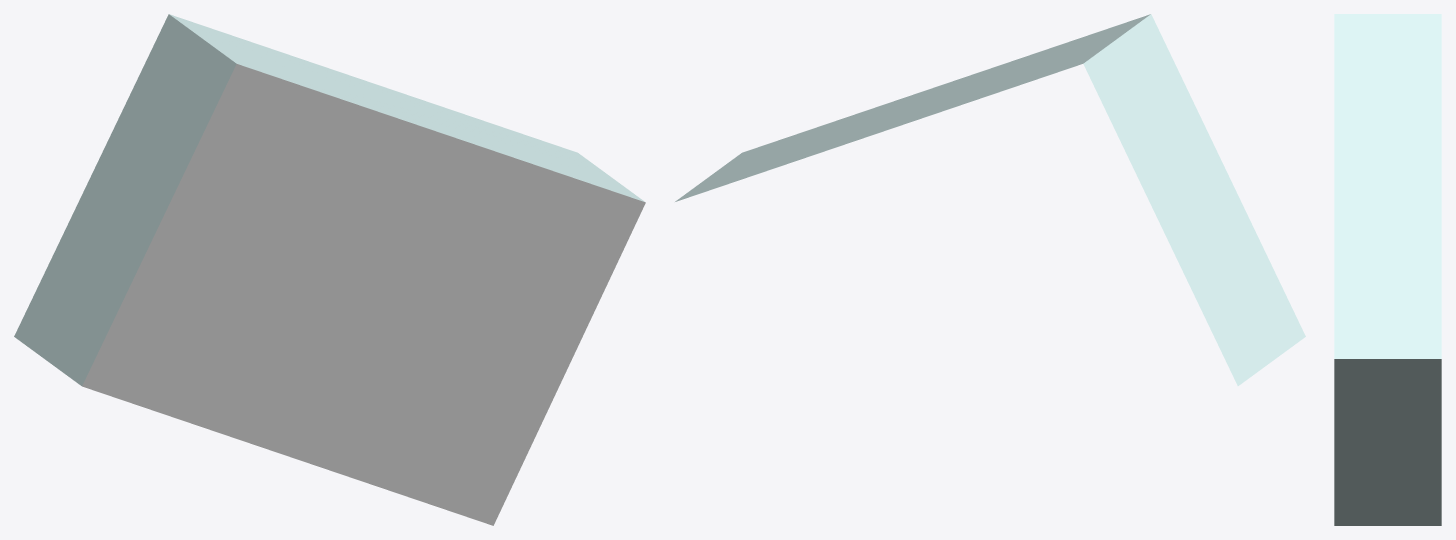
3 views of the same model, side by side, from view 1: azimuth 30°, elevation 25°; view 2: azimuth 150°, elevation 25°; view 3: azimuth 270°, elevation 25° (orthographic). The views are drawn at different scales.
Parts seen in each view (by area): view 1: 0_3_1_3_2_1_2_1_3; view 2: 0_3_1_3_2_1_2_1_3; view 3: 0_3_1_3_2_1_2_1_3.
Boxes of the visible parts, bbox=[...] form: 0_3_1_3_2_1_2_1_3: bbox=[14, 14, 645, 525]; 0_3_1_3_2_1_2_1_3: bbox=[675, 14, 1305, 385]; 0_3_1_3_2_1_2_1_3: bbox=[1334, 14, 1441, 525].
Size of the model in its own units: 14.37 by 12.78 by 3.
